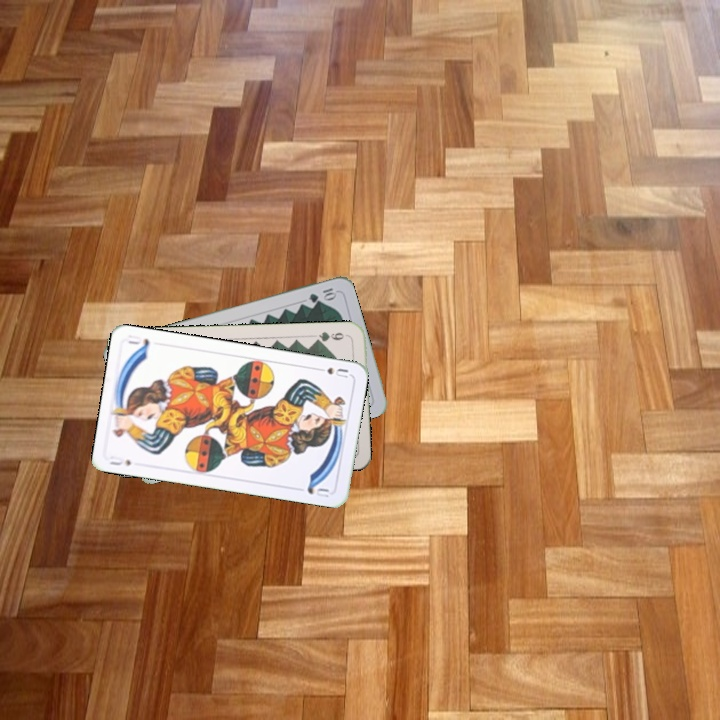G10: (305, 284, 339, 305)
G9: (311, 328, 351, 345)
SU: (312, 363, 351, 380), (106, 452, 134, 469)
